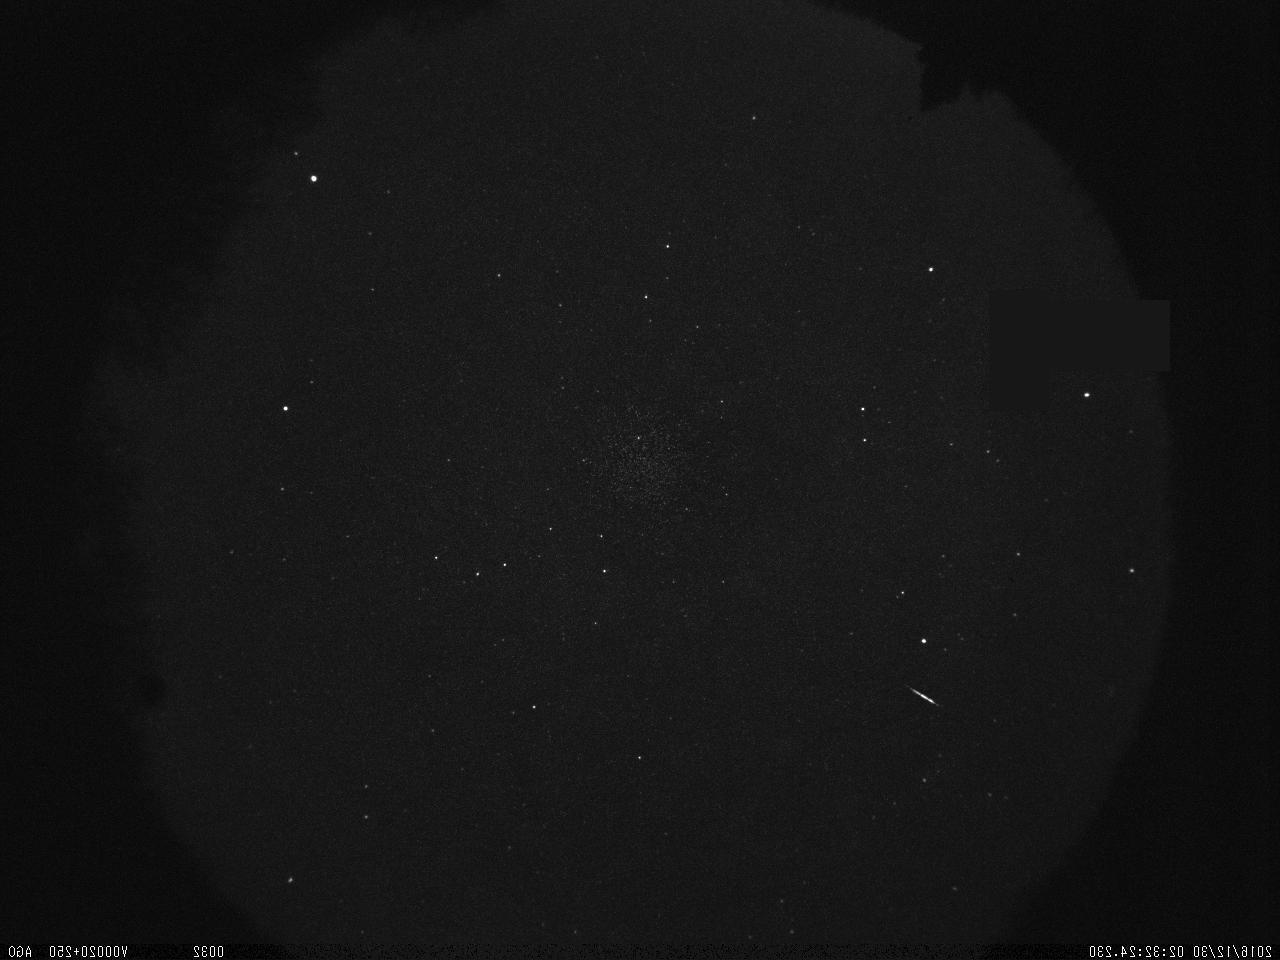meteor: (888, 673, 959, 716)
